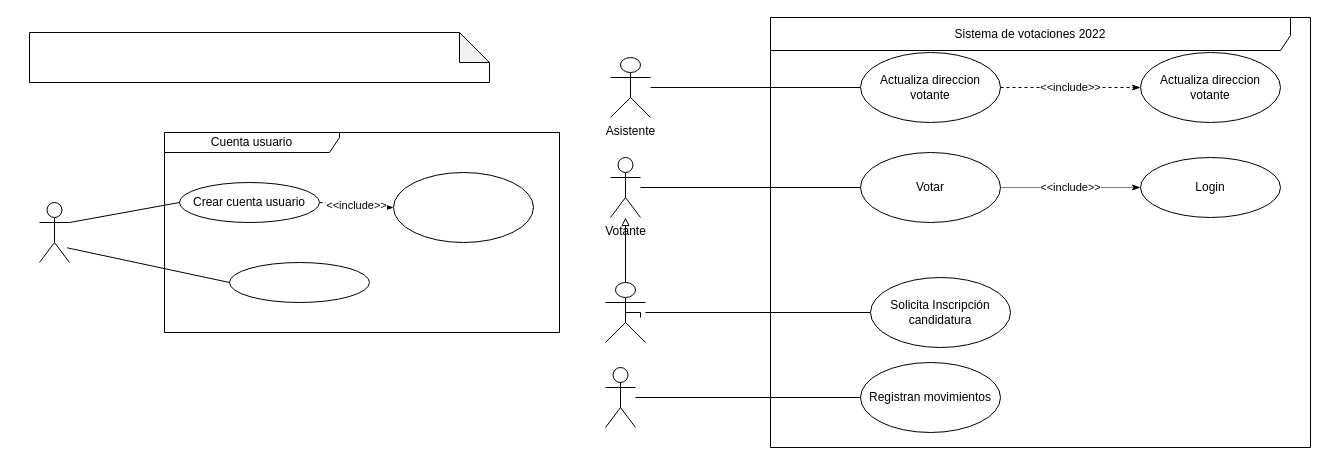
Some shapes in this 1328 by 466 pixel diagram are drawn without their labels. Here are the shapes that lost their labels. From the top down, the centre of each, then its label:
the point at 259,57: Karen Gonzaga Rivas
the point at 463,207: Asignar roles
the point at 54,232: Administrador
the point at 299,282: Dar de baja cuenta
the point at 625,312: Candidato
the point at 620,397: Vocales CNE
